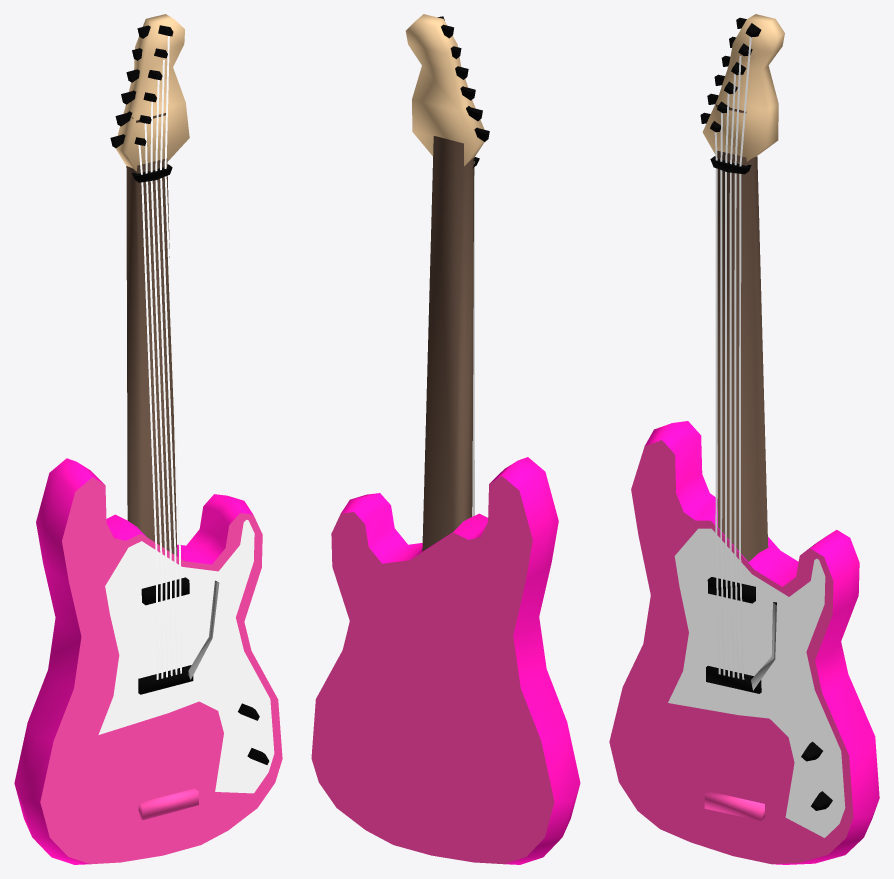
Rendered from GuitarElectricPink.glb.
3 views of the same model, side by side, from view 1: azimuth 30°, elevation 25°; view 2: azimuth 150°, elevation 25°; view 3: azimuth 330°, elevation 25° (orthographic).
Parts seen in each view (by area): view 1: GuitarElectricPink; view 2: GuitarElectricPink; view 3: GuitarElectricPink.
Part boxes in pixels (x1,y1,x2,y2): GuitarElectricPink: (14,14,282,864); GuitarElectricPink: (311,14,580,864); GuitarElectricPink: (609,14,879,864).
Bounding box in the file's own units: 0.4159 × 1.31 × 0.1052.
Materials: 1 (1 with a texture image).
